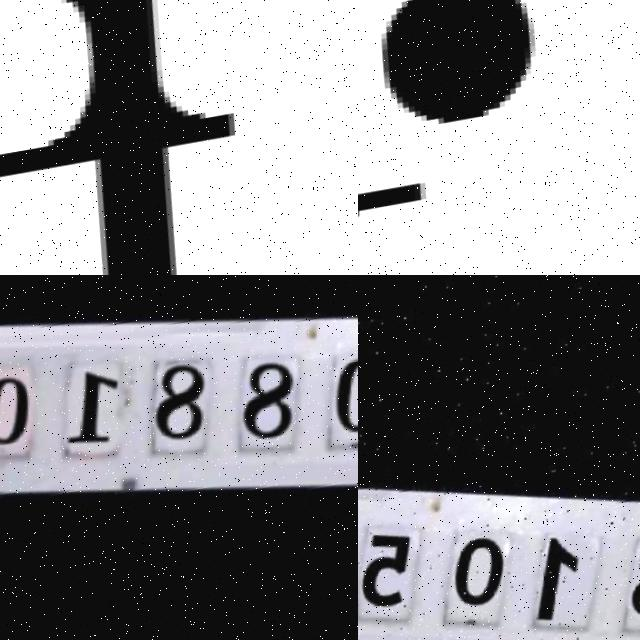0: (440, 513, 540, 631), (0, 356, 59, 460), (324, 337, 358, 453)
1: (525, 522, 626, 637), (57, 349, 146, 461)
3: (358, 0, 640, 275)
5: (358, 513, 447, 626)
8: (144, 346, 237, 457), (232, 347, 323, 454), (617, 530, 640, 638)
T: (0, 0, 321, 275)
